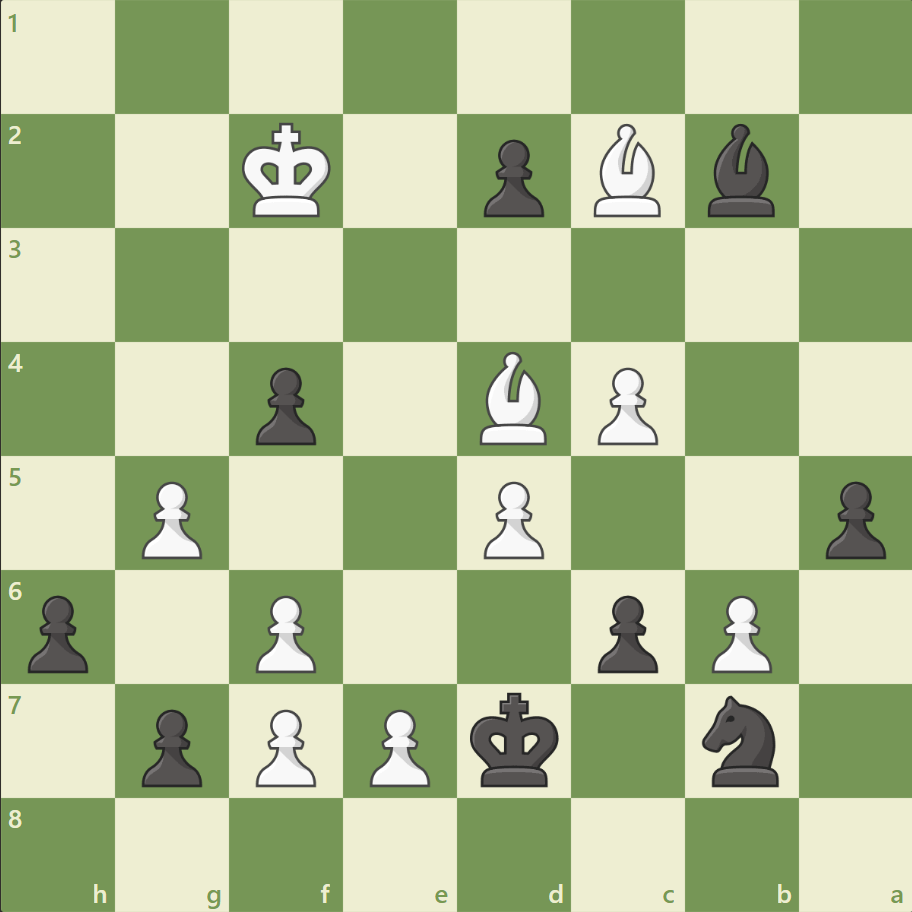B: (471, 347, 555, 449), (585, 120, 669, 222)
K: (238, 117, 338, 225)
P: (247, 700, 322, 791), (701, 586, 776, 677), (247, 586, 322, 677), (474, 473, 549, 564), (133, 473, 208, 564), (361, 700, 435, 791), (588, 359, 662, 450)
b: (698, 120, 782, 222)
k: (465, 685, 565, 793)
n: (692, 688, 789, 791)
p: (133, 700, 208, 791), (20, 586, 95, 677), (247, 359, 322, 450), (474, 132, 549, 223), (588, 586, 662, 677), (815, 473, 889, 564)
